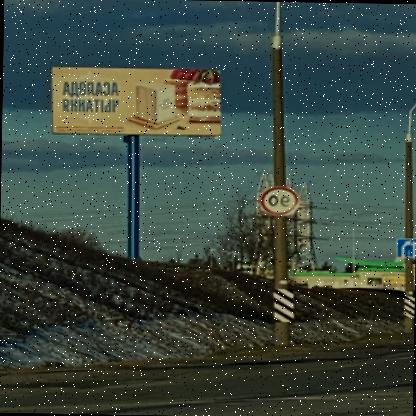speedlimit: (262, 186, 302, 214)
